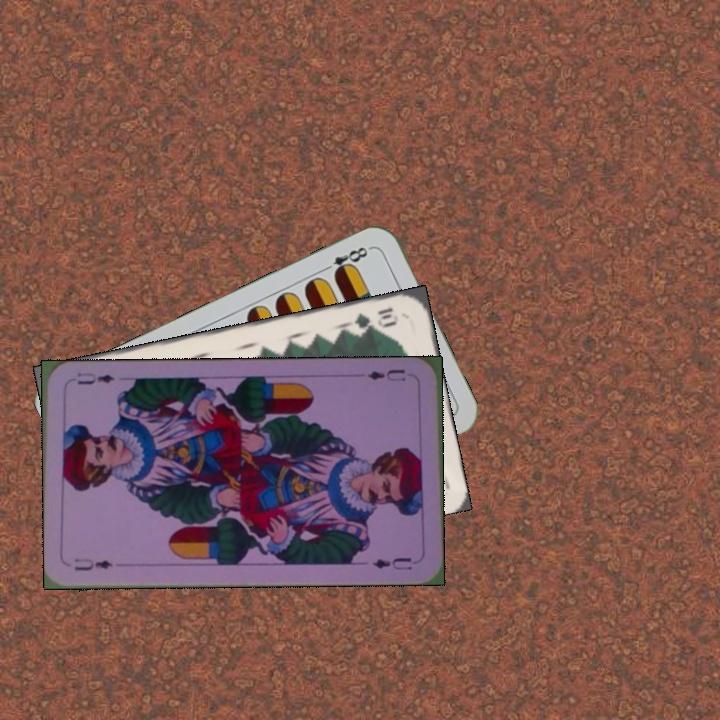E8: (318, 242, 374, 279)
EU: (363, 365, 409, 384), (70, 554, 115, 573)
G10: (350, 303, 401, 333)
